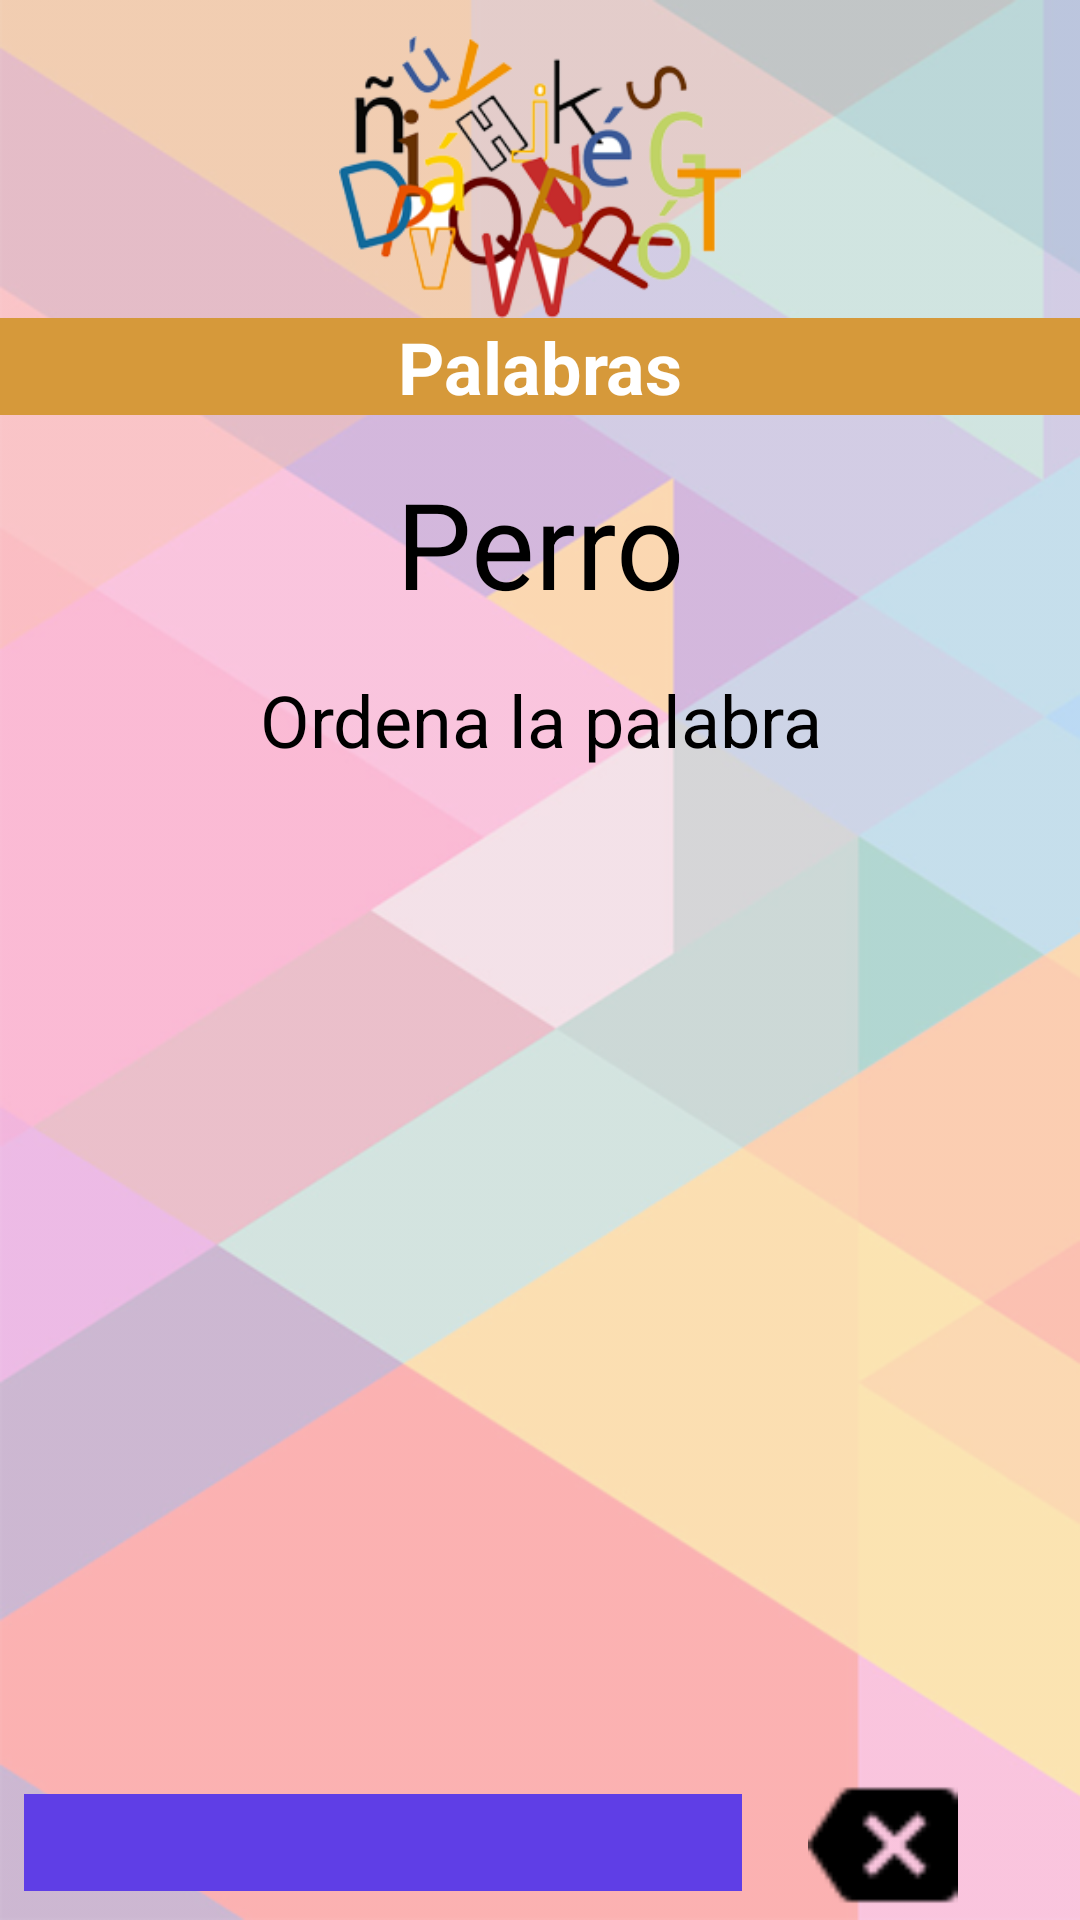

Where to tap for icons on this 1080 x 1920 app screen, as point (x, y):
flecharetroceso: point (882, 1845)
